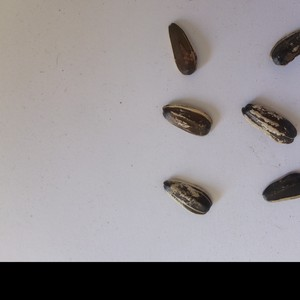girasol: (238, 100, 299, 147), (160, 176, 216, 217), (158, 101, 215, 141), (164, 20, 201, 78), (260, 167, 300, 205), (267, 24, 299, 68)
